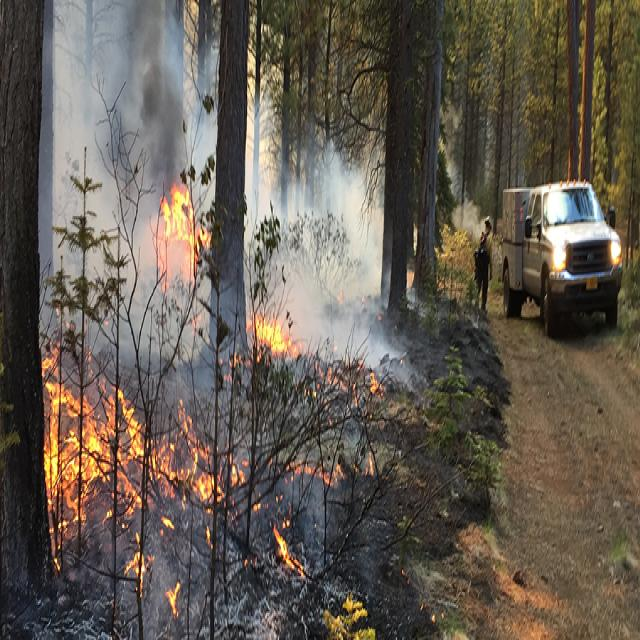fire: (48, 382, 102, 504), (162, 183, 207, 257), (251, 313, 288, 357)
smoke: (52, 9, 172, 167), (293, 184, 372, 326)
